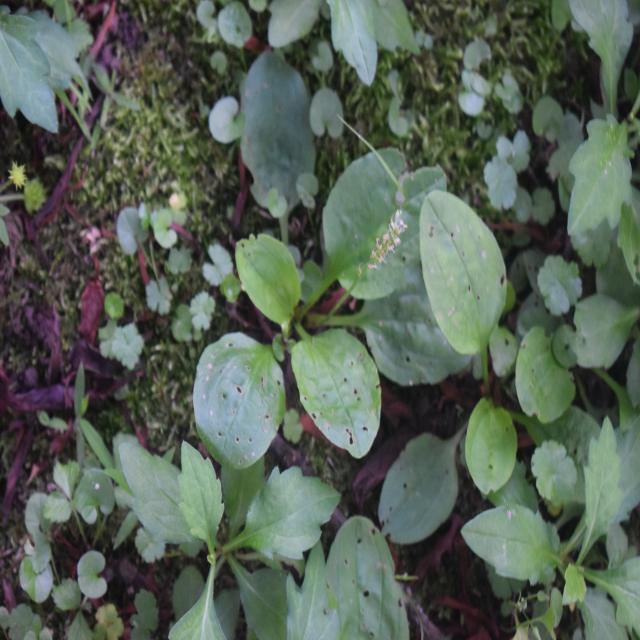plantain: (184, 119, 462, 438)
